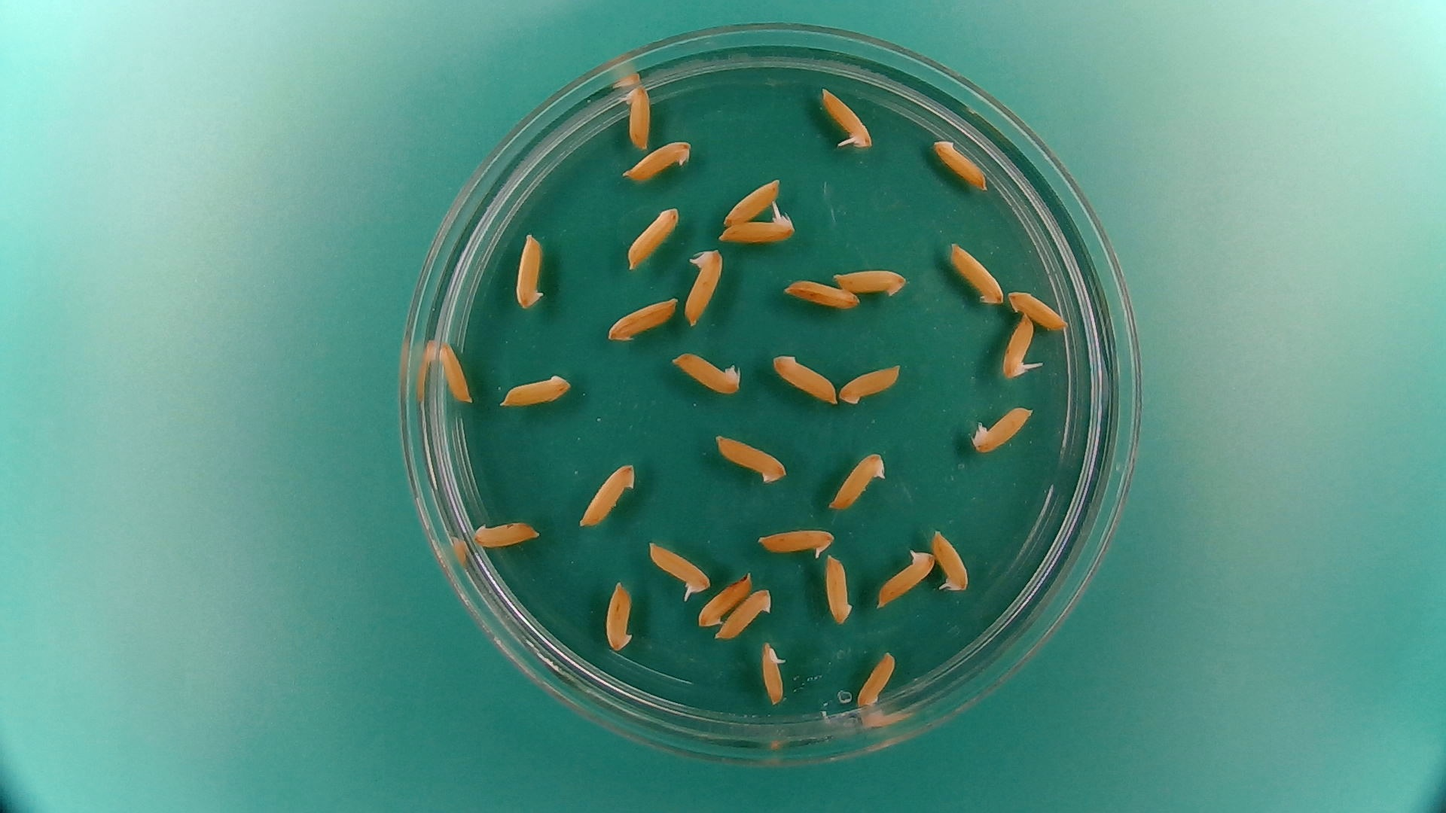no: (710, 429, 789, 485), (577, 458, 639, 527), (947, 238, 1007, 307), (768, 350, 840, 407), (623, 202, 681, 270), (602, 296, 680, 344), (668, 349, 745, 396), (930, 135, 991, 193), (618, 136, 695, 181), (719, 174, 784, 227), (972, 403, 1038, 455), (714, 586, 776, 641), (697, 572, 755, 629), (496, 370, 573, 410), (780, 274, 860, 312), (838, 361, 904, 407), (830, 263, 911, 297), (514, 227, 546, 311), (1008, 287, 1069, 331), (603, 574, 636, 654), (468, 516, 543, 551), (855, 647, 898, 708), (437, 340, 474, 405), (620, 83, 654, 151), (824, 554, 854, 627)
yes: (874, 545, 938, 609), (646, 540, 712, 601), (828, 448, 888, 513), (681, 244, 725, 329), (819, 84, 874, 151), (754, 522, 837, 562), (716, 207, 798, 245), (930, 526, 973, 594), (1000, 312, 1040, 382), (757, 638, 789, 707)
